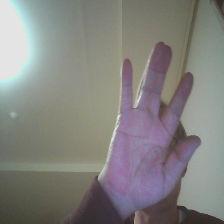hand: (106, 36, 207, 215)
